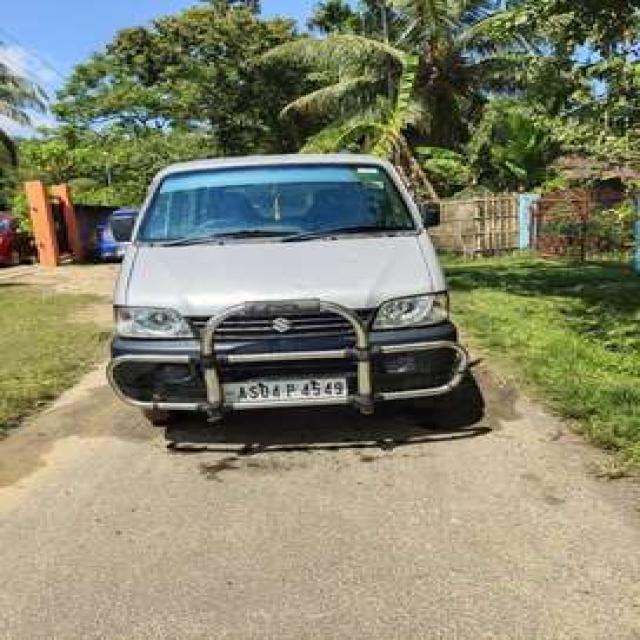licenseplate: (226, 372, 350, 405)
